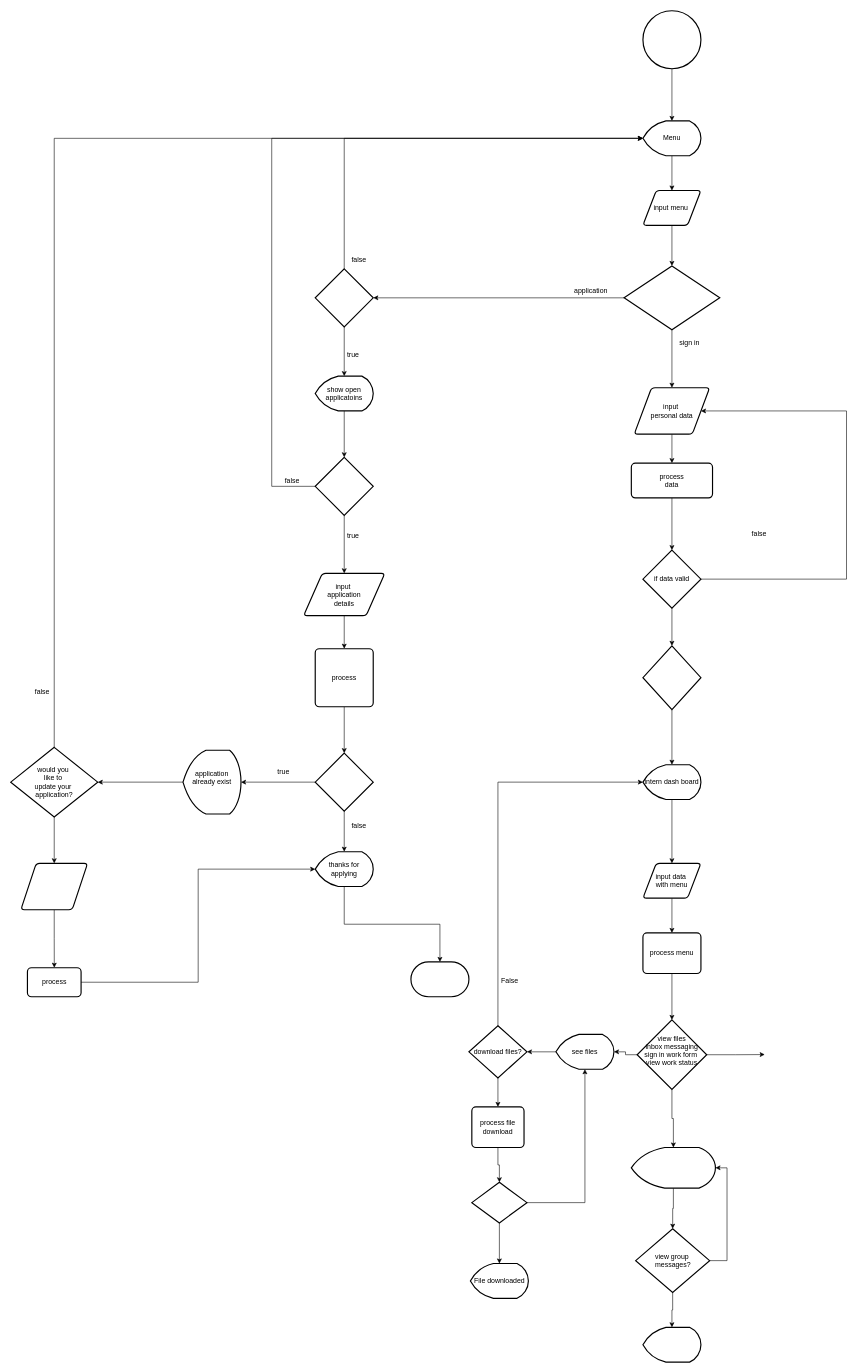
The diagram is 861 pixels wide and 1372 high, and some of its shapes have lost their labels. The shapes that lost their labels are listed below. From the top down, each one's centre as x and y in pixels, then its label:
At [671,39]: "start".
At [344,297]: "application open".
At [671,297]: "sign apply".
At [344,486]: "choose application".
At [671,677]: "admin or intern/employee".
At [344,781]: "application exist ?".
At [54,886]: "input application details update".
At [439,979]: "terminate".
At [673,1167]: "List of groups you are in".
At [499,1202]: "file dowloaded".
At [671,1344]: "viewing of messages".
